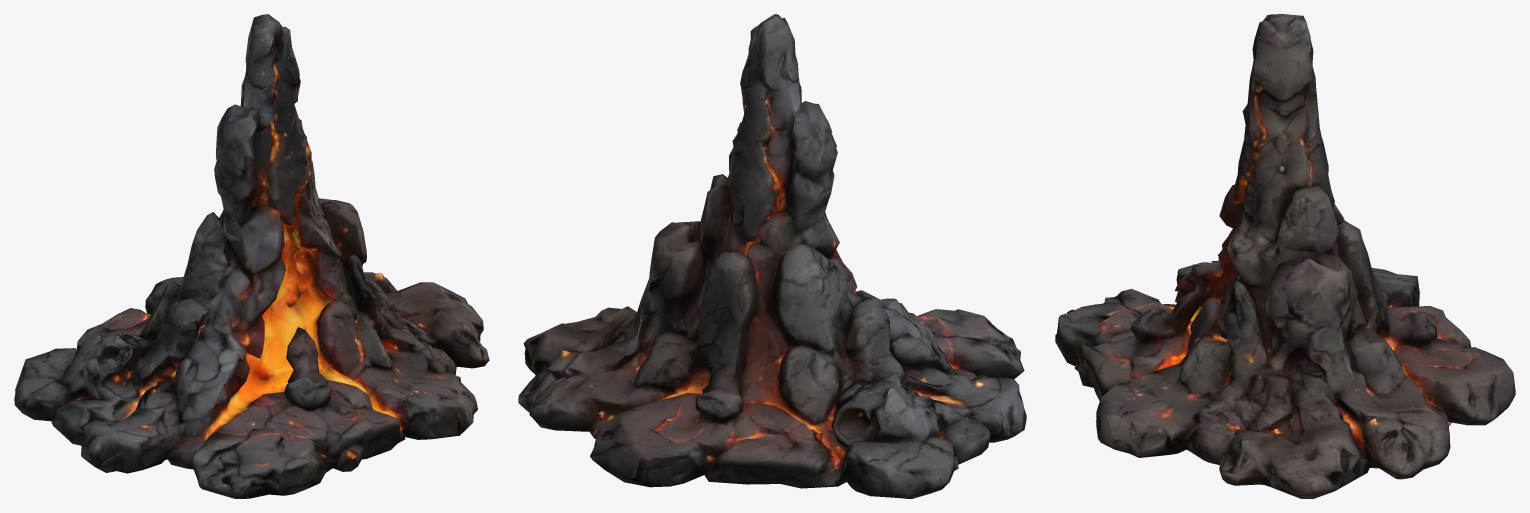
File: lavaspire.glb
The picture shows the model from 3 angles, left to right: view 1: azimuth 30°, elevation 25°; view 2: azimuth 150°, elevation 25°; view 3: azimuth 270°, elevation 25°; orthographic projection. The views are drawn at different scales.
Parts seen in each view (by area): view 1: tripo_node_2ed28fb9-d182-448a-88e6-d6d43f66db38; view 2: tripo_node_2ed28fb9-d182-448a-88e6-d6d43f66db38; view 3: tripo_node_2ed28fb9-d182-448a-88e6-d6d43f66db38.
Boxes of the visible parts, x1,y1,x2,y2 form: tripo_node_2ed28fb9-d182-448a-88e6-d6d43f66db38: (14,14,489,498); tripo_node_2ed28fb9-d182-448a-88e6-d6d43f66db38: (518,14,1026,498); tripo_node_2ed28fb9-d182-448a-88e6-d6d43f66db38: (1055,14,1515,498).
Size of the model in its own units: 1 by 0.8286 by 0.9037.
Materials: 1 (1 with a texture image).
